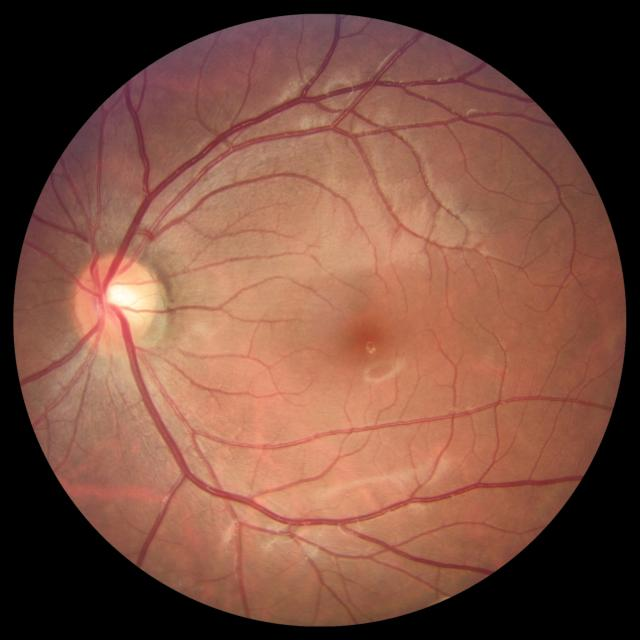OC: (99, 277, 140, 318)
OD: (74, 254, 160, 350)
